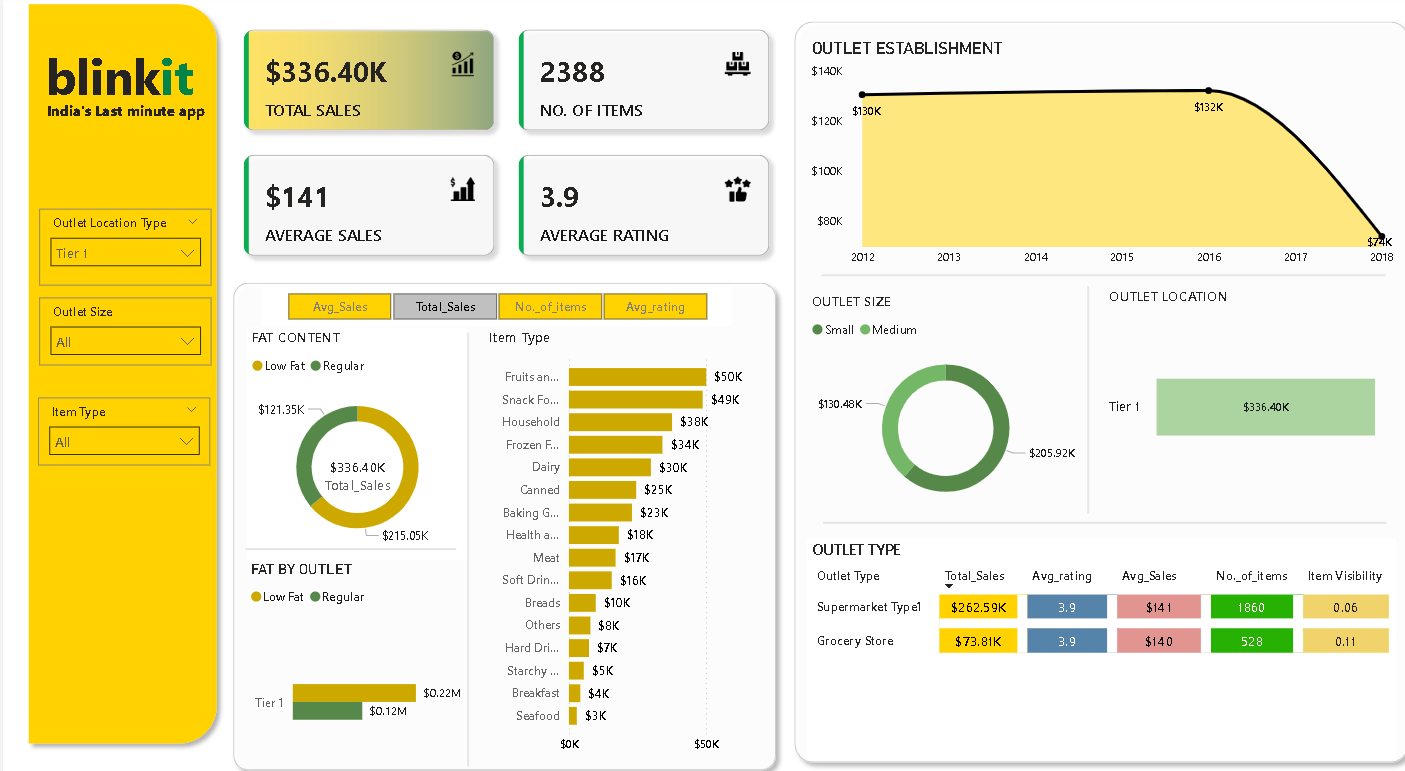

The dashboard page shown, as its layout file describes it:
{"tool":"powerbi","page":{"name":"Page 1","canvas":[1400,800],"ordinal":0},"visuals":[{"type":"shape","box":[16.4,0,204.5,749.8],"z":0},{"type":"textbox","box":[24.5,42.3,181.3,90],"z":1000},{"type":"textbox","box":[31.4,99.5,181.3,32.7],"z":2000},{"type":"cardVisual","fields":{"Data":["BlinkIT Grocery Data.Total_Sales","BlinkIT Grocery Data.No._of_items","BlinkIT Grocery Data.Avg_Sales","BlinkIT Grocery Data.Avg_rating"]},"box":[220.9,17.7,554.9,259],"z":3000},{"type":"shape","box":[219.5,275.4,554.9,500.3],"z":4000},{"type":"donutChart","title":"FAT CONTENT","fields":{"Y":["BlinkIT Grocery Data.No._of_items"],"Category":["BlinkIT Grocery Data.Item Fat Content"]},"box":[241.3,328.6,219.5,230.4],"z":5000},{"type":"slicer","fields":{"Values":["Metrics.Metrics"]},"box":[256.3,287.7,464.9,39.5],"z":6000},{"type":"cardVisual","fields":{"Data":["BlinkIT Grocery Data.No._of_items"]},"box":[291.8,440.4,118.6,61.4],"z":7000},{"type":"clusteredBarChart","title":"FAT BY OUTLET","fields":{"Y":["BlinkIT Grocery Data.No._of_items"],"Category":["BlinkIT Grocery Data.Outlet Location Type"],"Series":["BlinkIT Grocery Data.Item Fat Content"]},"box":[239.9,559,219.5,230.4],"z":8000},{"type":"shape","box":[239.9,538.5,208.6,20.5],"z":9000},{"type":"shape","box":[445.8,334,30,429.5],"z":10000},{"type":"barChart","title":"Item Type","fields":{"Y":["BlinkIT Grocery Data.No._of_items"],"Category":["BlinkIT Grocery Data.Item Type"]},"box":[475.8,328.6,283.6,429.5],"z":11000},{"type":"shape","box":[774.4,17.7,625.8,751.2],"z":12000},{"type":"lineChart","title":"OUTLET ESTABLISHMENT","fields":{"Y":["BlinkIT Grocery Data.Total_Sales"],"Category":["BlinkIT Grocery Data.Outlet Establishment Year"]},"box":[794.8,42.3,586.2,234.5],"z":13000},{"type":"shape","box":[809.8,260.4,557.6,32.7],"z":14000},{"type":"donutChart","title":"OUTLET SIZE","fields":{"Y":["BlinkIT Grocery Data.Total_Sales"],"Category":["BlinkIT Grocery Data.Outlet Size"]},"box":[794.8,293.1,275.4,225],"z":15000},{"type":"funnel","title":"OUTLET LOCATION","fields":{"Y":["BlinkIT Grocery Data.Total_Sales"],"Category":["BlinkIT Grocery Data.Outlet Location Type"]},"box":[1089.3,287.7,278.1,219.5],"z":16000},{"type":"shape","box":[1059.3,287.7,30,225],"z":17000},{"type":"shape","box":[811.2,505.8,557.6,32.7],"z":18000},{"type":"pivotTable","title":"OUTLET TYPE","fields":{"Rows":["BlinkIT Grocery Data.Outlet Type"],"Values":["BlinkIT Grocery Data.Total_Sales","BlinkIT Grocery Data.Avg_rating","BlinkIT Grocery Data.Avg_Sales","BlinkIT Grocery Data.No._of_items","Avg(BlinkIT Grocery Data.Item Visibility)"]},"box":[794.8,538.5,583.5,219.5],"z":19000},{"type":"slicer","title":"OUTLET LOCATION","fields":{"Values":["BlinkIT Grocery Data.Outlet Location Type"]},"box":[35.4,211.3,170.4,76.3],"z":20000},{"type":"slicer","title":"OUTLET LOCATION","fields":{"Values":["BlinkIT Grocery Data.Outlet Size"]},"box":[35.4,299.9,170.4,66.8],"z":21000},{"type":"slicer","title":"OUTLET LOCATION","fields":{"Values":["BlinkIT Grocery Data.Item Type"]},"box":[34.1,398.1,170.4,66.8],"z":22000}]}

Visuals, with their boxes on the page's 1400x800 design canvas (x1, y1, x2, y2). These are canvas units, not pixel positions in the 1405x771 screenshot, which may show the page scaled, cropped or inside an application window:
shape: detection(16, 0, 221, 750)
textbox: detection(24, 42, 206, 132)
textbox: detection(31, 100, 213, 132)
cardVisual - BlinkIT Grocery Data.Total_Sales x BlinkIT Grocery Data.No._of_items: detection(221, 18, 776, 277)
shape: detection(220, 275, 774, 776)
"FAT CONTENT" donutChart: detection(241, 329, 461, 559)
slicer - Metrics.Metrics: detection(256, 288, 721, 327)
cardVisual - BlinkIT Grocery Data.No._of_items: detection(292, 440, 410, 502)
"FAT BY OUTLET" clusteredBarChart: detection(240, 559, 459, 789)
shape: detection(240, 538, 448, 559)
shape: detection(446, 334, 476, 764)
"Item Type" barChart: detection(476, 329, 759, 758)
shape: detection(774, 18, 1400, 769)
"OUTLET ESTABLISHMENT" lineChart: detection(795, 42, 1381, 277)
shape: detection(810, 260, 1367, 293)
"OUTLET SIZE" donutChart: detection(795, 293, 1070, 518)
"OUTLET LOCATION" funnel: detection(1089, 288, 1367, 507)
shape: detection(1059, 288, 1089, 513)
shape: detection(811, 506, 1369, 538)
"OUTLET TYPE" pivotTable: detection(795, 538, 1378, 758)
"OUTLET LOCATION" slicer: detection(35, 211, 206, 288)
"OUTLET LOCATION" slicer: detection(35, 300, 206, 367)
"OUTLET LOCATION" slicer: detection(34, 398, 204, 465)
